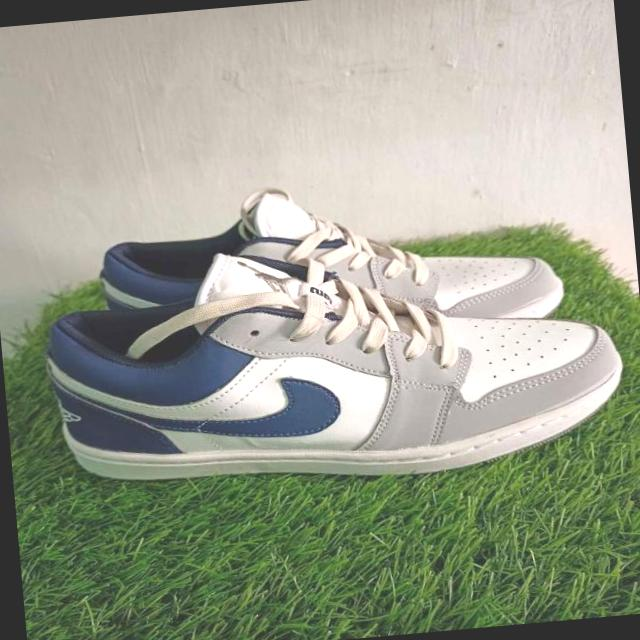nike_fake_jordan: (38, 214, 640, 505), (90, 160, 570, 358)
